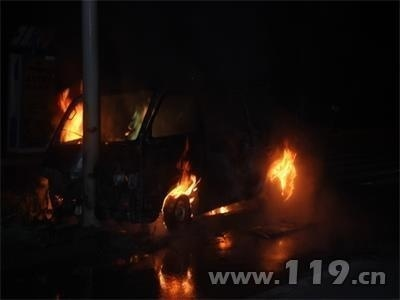fire: (162, 151, 201, 214), (54, 84, 87, 144), (265, 141, 299, 199), (207, 202, 233, 216)
